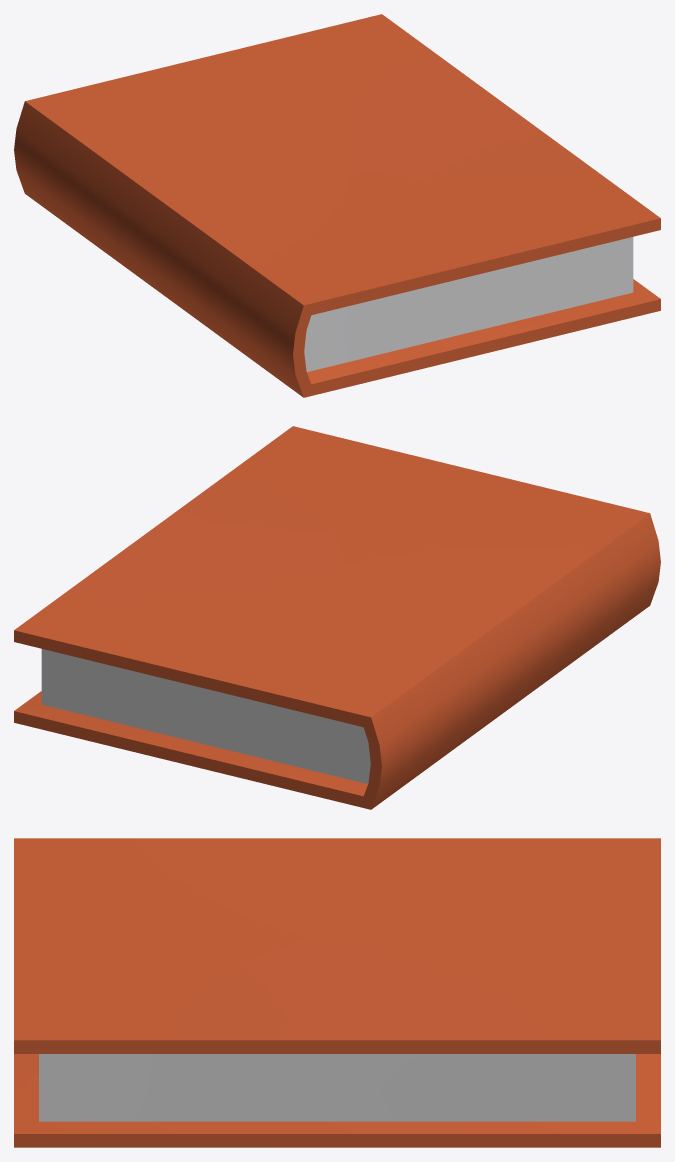
The model's file is SM_Props_Book_03.fbx.
The picture shows the model from 3 angles, top to bottom: view 1: azimuth 30°, elevation 25°; view 2: azimuth 150°, elevation 25°; view 3: azimuth 270°, elevation 25°; orthographic projection. The views are drawn at different scales.
Parts seen in each view (by area): view 1: SM_Props_Book_03; view 2: SM_Props_Book_03; view 3: SM_Props_Book_03.
Boxes of the visible parts, x1,y1,x2,y2 form: SM_Props_Book_03: (14, 14, 660, 397); SM_Props_Book_03: (14, 426, 660, 809); SM_Props_Book_03: (14, 838, 660, 1147).
Size of the model in its own units: 0.2169 by 0.0521 by 0.2849.
